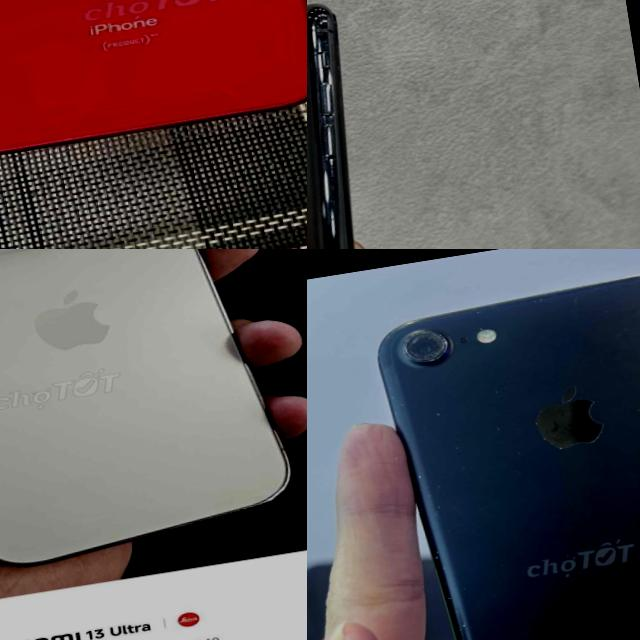scratch: (469, 270, 640, 337), (406, 459, 466, 610), (519, 390, 607, 457), (307, 5, 353, 123), (307, 144, 359, 245), (477, 372, 520, 458), (390, 317, 450, 373), (447, 608, 504, 640), (382, 373, 412, 425), (423, 399, 447, 422), (631, 358, 640, 383)
